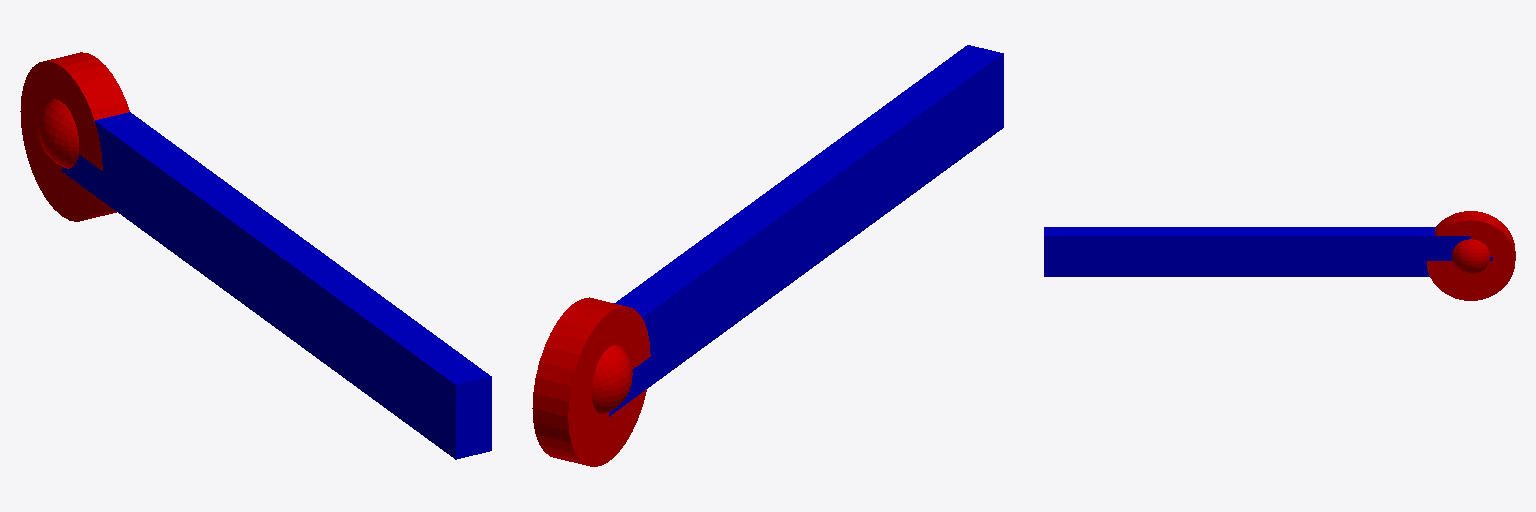
URDF robot description (TwoLinkStruct4879623461):
<?xml version="1.0"?>
<robot  name="TwoLinkStruct4879623461" >
 <material  name="blue" >
  <color  rgba="0 0 0.8 1.0" />
 </material>
 <material  name="red" >
  <color  rgba="0.8 0 0 1.0" />
 </material>
 <link  name="base_link" >
  <visual >
   <origin  rpy="0 1.5707 0"  xyz="0 0 0" />
   <material  name="red" />
   <geometry >
    <cylinder  length="0.05"  radius="0.1" />
   </geometry>
  </visual>
 </link>
 <joint  type="revolute"  name="joint1" >
  <parent  link="base_link" />
  <child  link="link1" />
  <origin  xyz="0 0 0"  rpy="0 0 0" />
  <axis  xyz="1 0 0" />
 </joint>
 <link  name="link1" >
  <inertial >
   <origin  rpy="0 0 0"  xyz="0 0 0.005" />
   <mass  value="0.014563547372817993" />
   <inertia  ixy="0.0"  iyy="6.068144738674164e-06"  izz="3.1554352641105652e-06"  ixz="0.0"  ixx="3.1554352641105652e-06"  iyz="0.0" />
  </inertial>
  <visual >
   <origin  rpy="0 0 0"  xyz="0 0 0.005" />
   <material  name="blue" />
   <geometry >
    <box  size="0.05 0.1 0.01" />
   </geometry>
  </visual>
 </link>
 <joint  type="fixed"  name="joint-joint-1" >
  <parent  link="link1" />
  <child  link="joint-link-1" />
  <origin  xyz="0 0 0.01"  rpy="1.5707 0 0" />
  <axis  xyz="1 0 0" />
 </joint>
 <link  name="joint-link-1" >
  <inertial >
   <origin  rpy="0 0 0"  xyz="0 0 0" />
   <mass  value="5.0" />
   <inertia  ixy="0"  iyy="0"  izz="0"  ixz="0"  ixx="0"  iyz="0" />
  </inertial>
  <visual >
   <origin  rpy="0 0 0"  xyz="0 0 0" />
   <material  name="red" />
   <geometry >
    <sphere  radius="0.05" />
   </geometry>
  </visual>
 </link>
 <joint  type="revolute"  name="joint2" >
  <parent  link="link1" />
  <child  link="link2" />
  <origin  xyz="0 0 0.01"  rpy="1.5707 0 0" />
  <axis  xyz="1 0 0" />
 </joint>
 <link  name="link2" >
  <inertial >
   <origin  rpy="0 0 0"  xyz="0 0 0.4780528181465401" />
   <mass  value="3.4027979824705215" />
   <inertia  ixy="0.0"  iyy="6.068144738674164e-06"  izz="0.0011124583965285008"  ixz="0.0"  ixx="0.0011124583965285008"  iyz="0.0" />
  </inertial>
  <visual >
   <origin  rpy="0 0 0"  xyz="0 0 0.4780528181465401" />
   <material  name="blue" />
   <geometry >
    <box  size="0.05 0.1 0.9561056362930802" />
   </geometry>
  </visual>
 </link>
 <joint  type="fixed"  name="eef_joint" >
  <parent  link="link2" />
  <child  link="eef" />
  <origin  xyz="0 0 0.9561056362930802"  rpy="0 0 0" />
 </joint>
 <link  name="eef" >
  <inertial >
   <origin  rpy="0 0 0"  xyz="0 0 0" />
   <mass  value="1" />
   <inertia  ixy="0"  iyy="0"  izz="0"  ixz="0"  ixx="0"  iyz="0" />
  </inertial>
 </link>
 <transmission  name="motor1" >
  <type  xmltext="SimpleTransmission" >
   SimpleTransmission
  </type>
  <actuator  name="motor1" >
   <mechanicalreduction  xmltext="1" >
    1
   </mechanicalreduction>
  </actuator>
  <joint  name="joint1" />
 </transmission>
 <transmission  name="motor2" >
  <type  xmltext="SimpleTransmission" >
   SimpleTransmission
  </type>
  <actuator  name="motor2" >
   <mechanicalreduction  xmltext="1" >
    1
   </mechanicalreduction>
  </actuator>
  <joint  name="joint2" />
 </transmission>
</robot>

<!-- {'carti': array([-0.1 ,  0.14,  0.85]), 'cartd': array([-0.1 ,  0.32,  1.29]), 'tau_mu': 0.0, 'b0': 0.47921291483333606, 'Km': 5.0, 'k_velocity': 97.62775240737281, 'tau_max_m': 3.966695828513613, 'omega_max_m': 1000.0, 'gear_ratio': 2.877829721952729, 'Kp': 0.0, 'Kd': 66.93615728648363, 'm_m': 5.0, 'l1': 0.01, 'l2': 0.9561056362930802, 'k1': 11051.868093522911, 'k2': 68610431.63560316, 'k3': 45860170.29003498}-->

--- What the picture shows (computed from the rendered views, not written in the file) ---
3 views of the same robot in one strip: view 1: azimuth 30°, elevation 25°; view 2: azimuth 150°, elevation 25°; view 3: azimuth 270°, elevation 25° (orthographic).
Model TwoLinkStruct4879623461 with 5 links and 4 joints (2 revolute, 2 fixed), rooted at base_link, posed all joints at 0.
Visible links, largest first — view 1: link2, base_link, joint-link-1; view 2: link2, base_link, joint-link-1; view 3: link2, base_link, joint-link-1.
Link boxes in pixels (x1,y1,x2,y2): link2: (62, 112, 491, 459); base_link: (20, 52, 129, 221); joint-link-1: (38, 99, 78, 168); link2: (609, 45, 1003, 416); base_link: (532, 297, 650, 466); joint-link-1: (592, 345, 632, 413); link2: (1044, 227, 1470, 276); base_link: (1426, 211, 1515, 300); joint-link-1: (1452, 239, 1489, 273).
Size in the robot's own frame: 0.1 by 1.06 by 0.2 metres.
Geometry: primitives only (box / cylinder / sphere), no mesh files.
